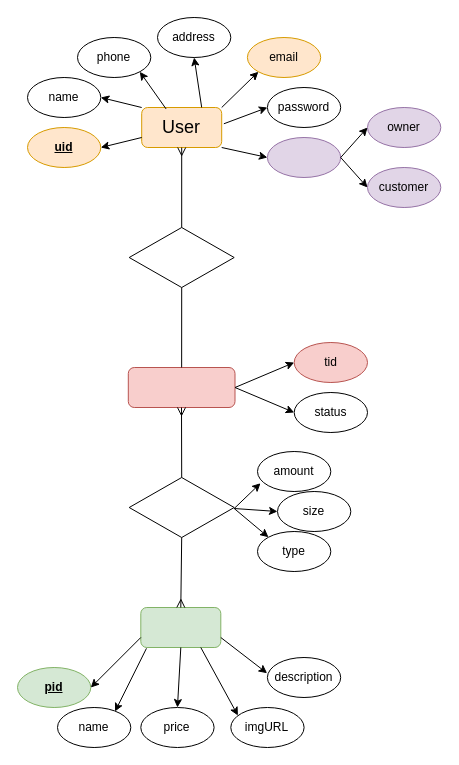
Some shapes in this 459 by 765 pixel diagram are drawn without their labels. The shapes that lost their labels are listed below. From the top down, each one's box as (x1, y1, x2, y2) in pixels, then its label:
(266, 136, 341, 178): role
(128, 226, 234, 288): Request
(127, 366, 235, 408): Transaction
(128, 476, 234, 538): Order
(140, 606, 221, 648): Product
